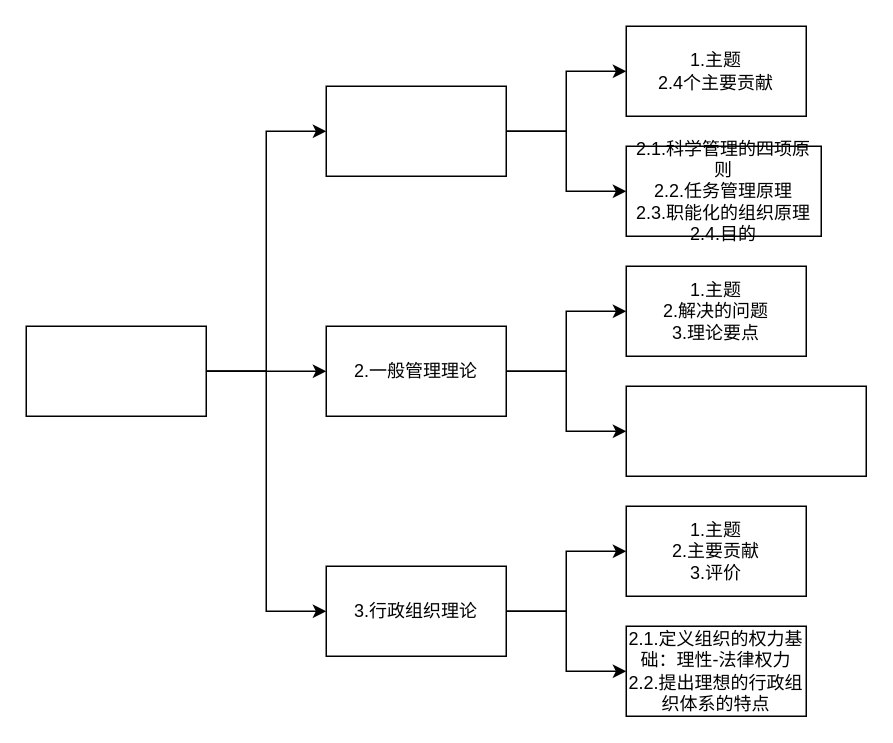
Image size: 893x743. Some labels were removed from this diagram. Here are the shapes that lost their labels. From the top down, the box of each, then its label:
(325, 85, 506, 176): 1.科学管理理论
(25, 325, 206, 416): 1.古典管理理论
(625, 385, 866, 476): 3.1.为管理工作规定基本职能 3.2.提出了14条管理原则
